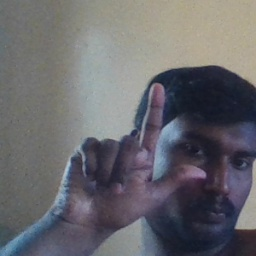L: (58, 83, 208, 232)
